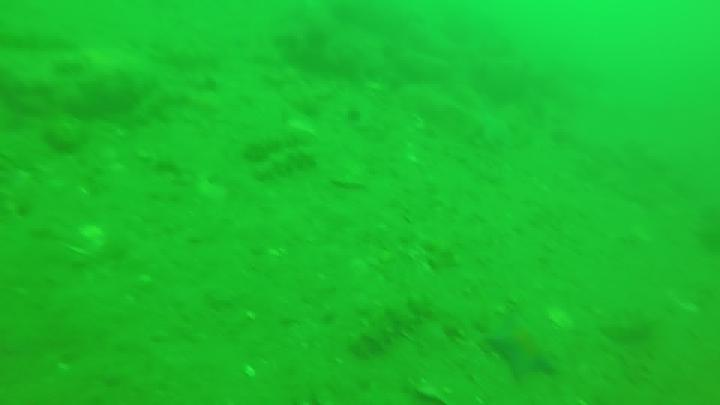holothurian: (350, 304, 442, 355), (255, 154, 328, 182), (246, 133, 313, 155)
scallop: (64, 224, 111, 255)
starfish: (484, 309, 559, 378)
